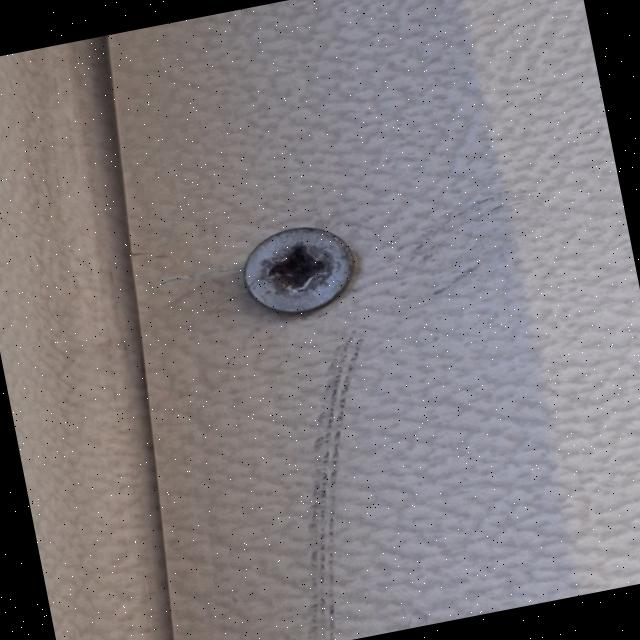Phillips: (235, 215, 362, 324)
